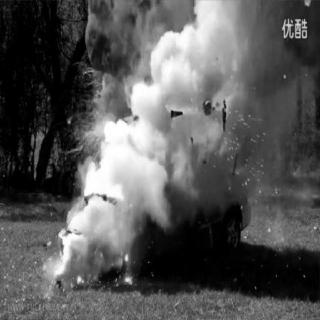Smoke: (43, 210, 91, 294)
